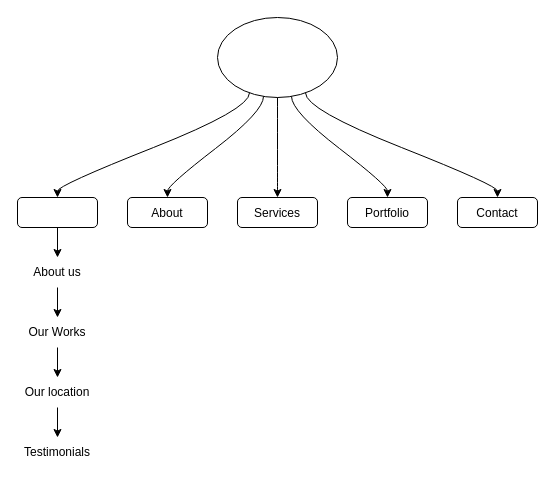
Image size: 555x485. Some labels were removed from this diagram. The shapes that lost their labels are listed below. From the top down, each one's centre as x and y in pixels, then its label:
[277,57]: Allah's Will Website
[57,212]: Home
